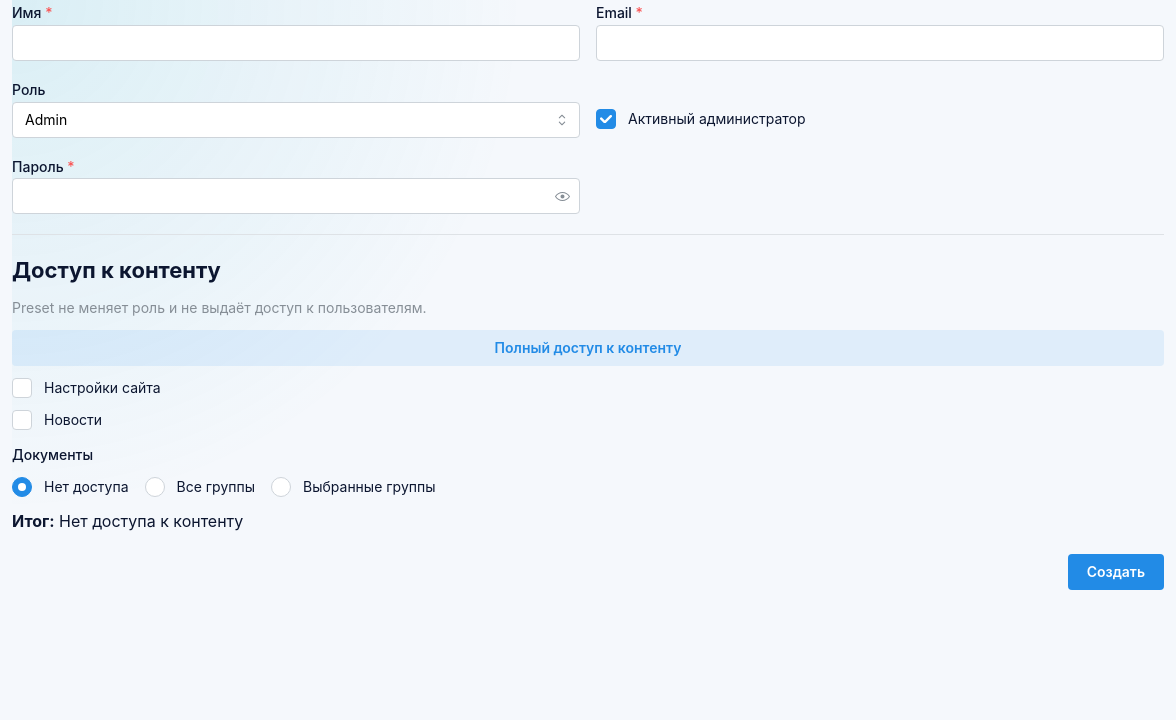
AdminUserForm permissions › applies full content preset without granting SUPER_ADMIN
This screenshot has width=1176, height=720.
Click the button "Полный доступ к контенту" at coordinates (588, 348), box top-left (12, 330), bottom-right (1164, 366)
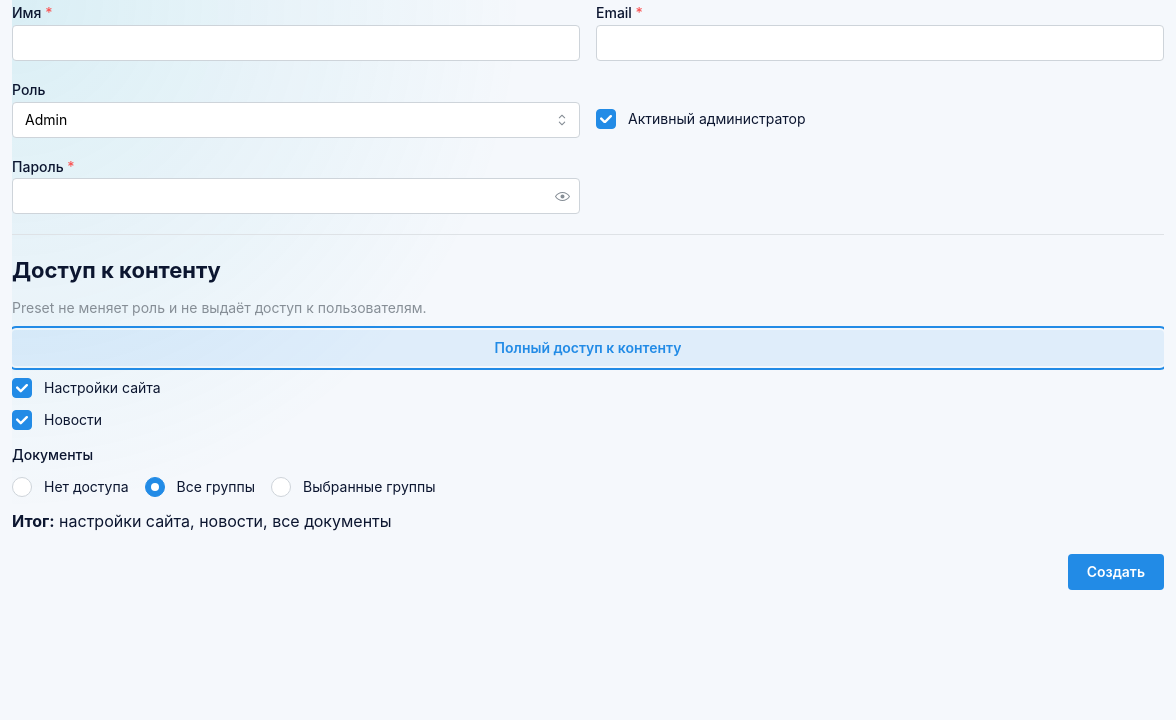
Result: the checkbox labelled "Настройки сайта" is checked at top-left (12, 378), bottom-right (32, 398)
Result: the checkbox labelled "Новости" is checked at top-left (12, 410), bottom-right (32, 430)
Result: the radio button labelled "Все группы" is checked at top-left (144, 477), bottom-right (164, 497)
